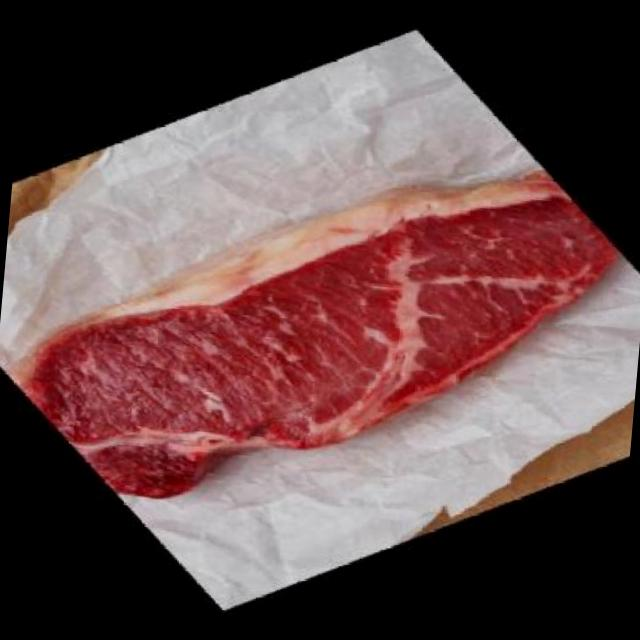beef: (0, 125, 640, 547)
